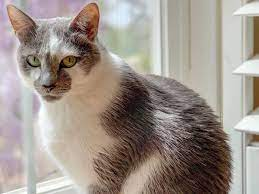cat: (1, 1, 157, 118)
